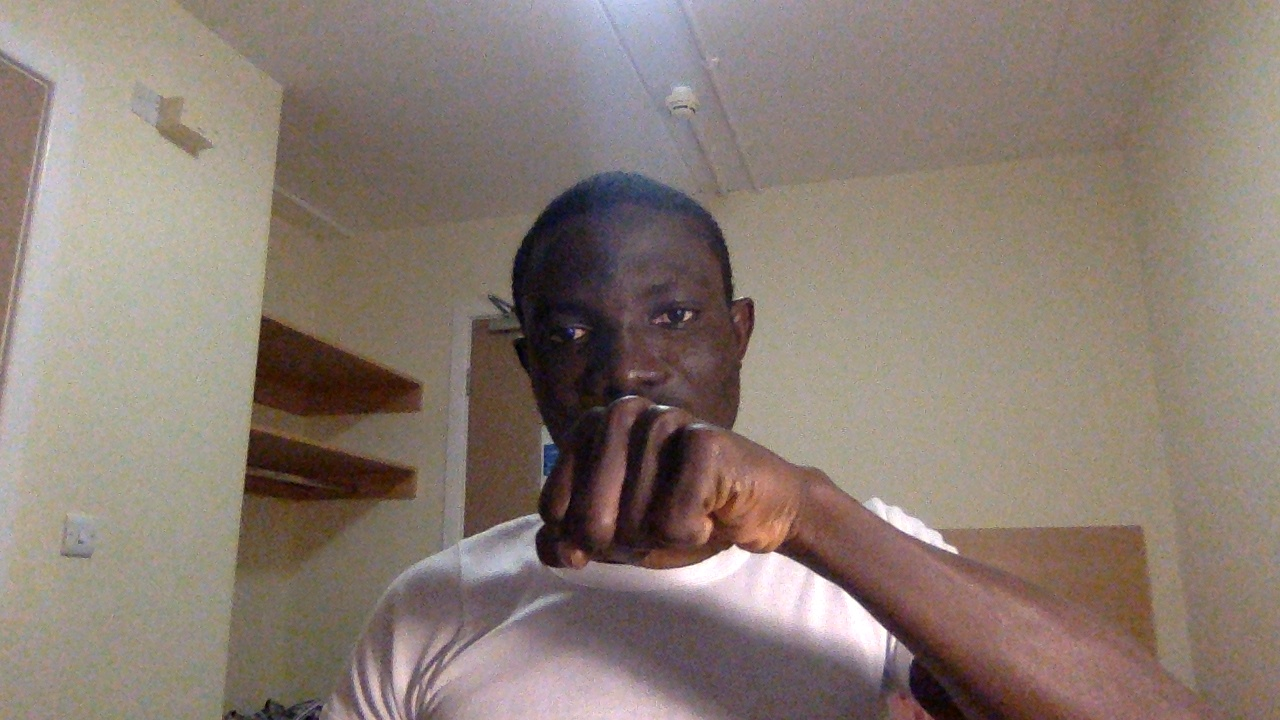Yes: (533, 389, 824, 639)
